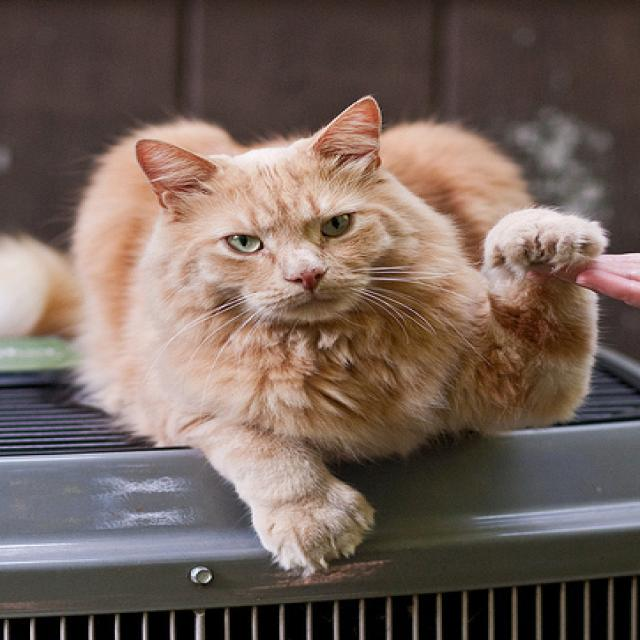Maine Coon: (0, 85, 612, 579)
